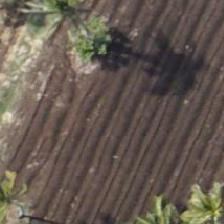coconut_tree: (46, 1, 136, 91), (19, 0, 109, 58)
